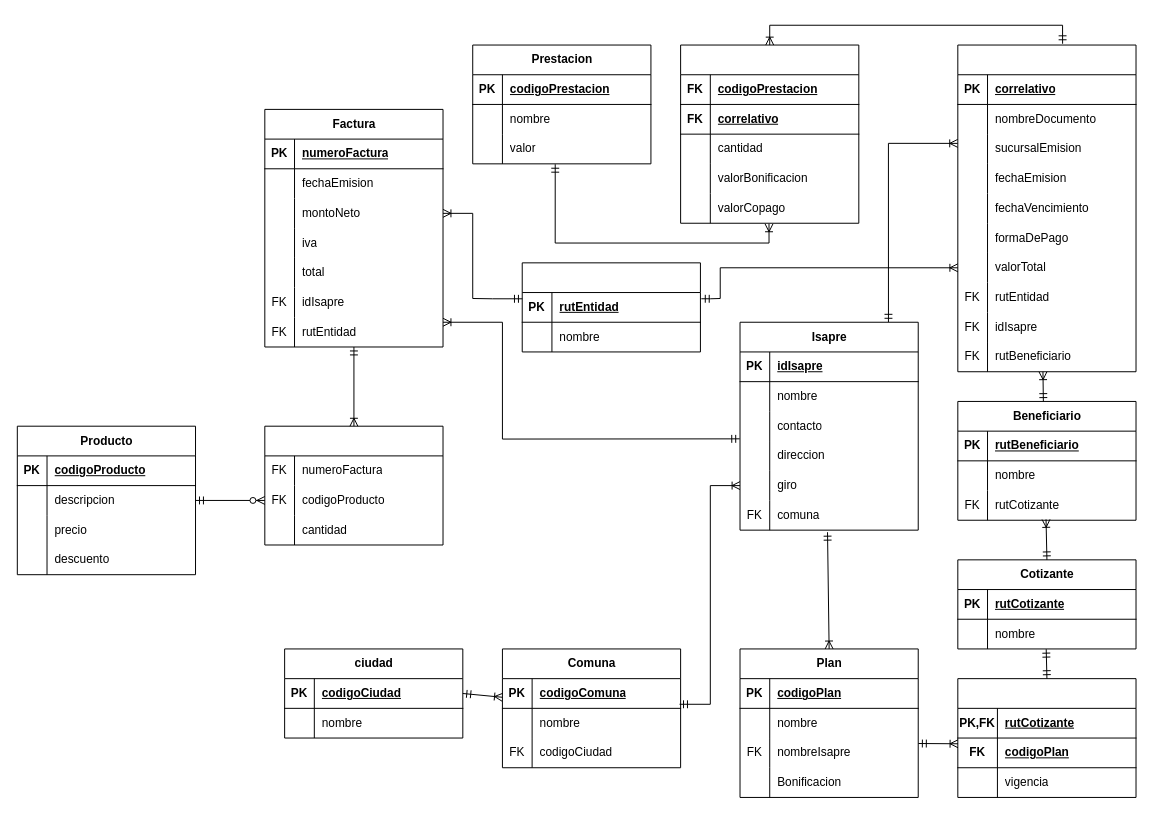
Image size: 1153x815. Some labels were removed from this diagram. Each missing label, with the box of its shape:
afiliacionPlan: (957, 678, 1136, 797)
Bono: (957, 44, 1136, 372)
EntidadProfesional: (521, 262, 700, 352)
PrestacionUtilizada: (680, 44, 859, 223)
Venta: (264, 425, 443, 545)
